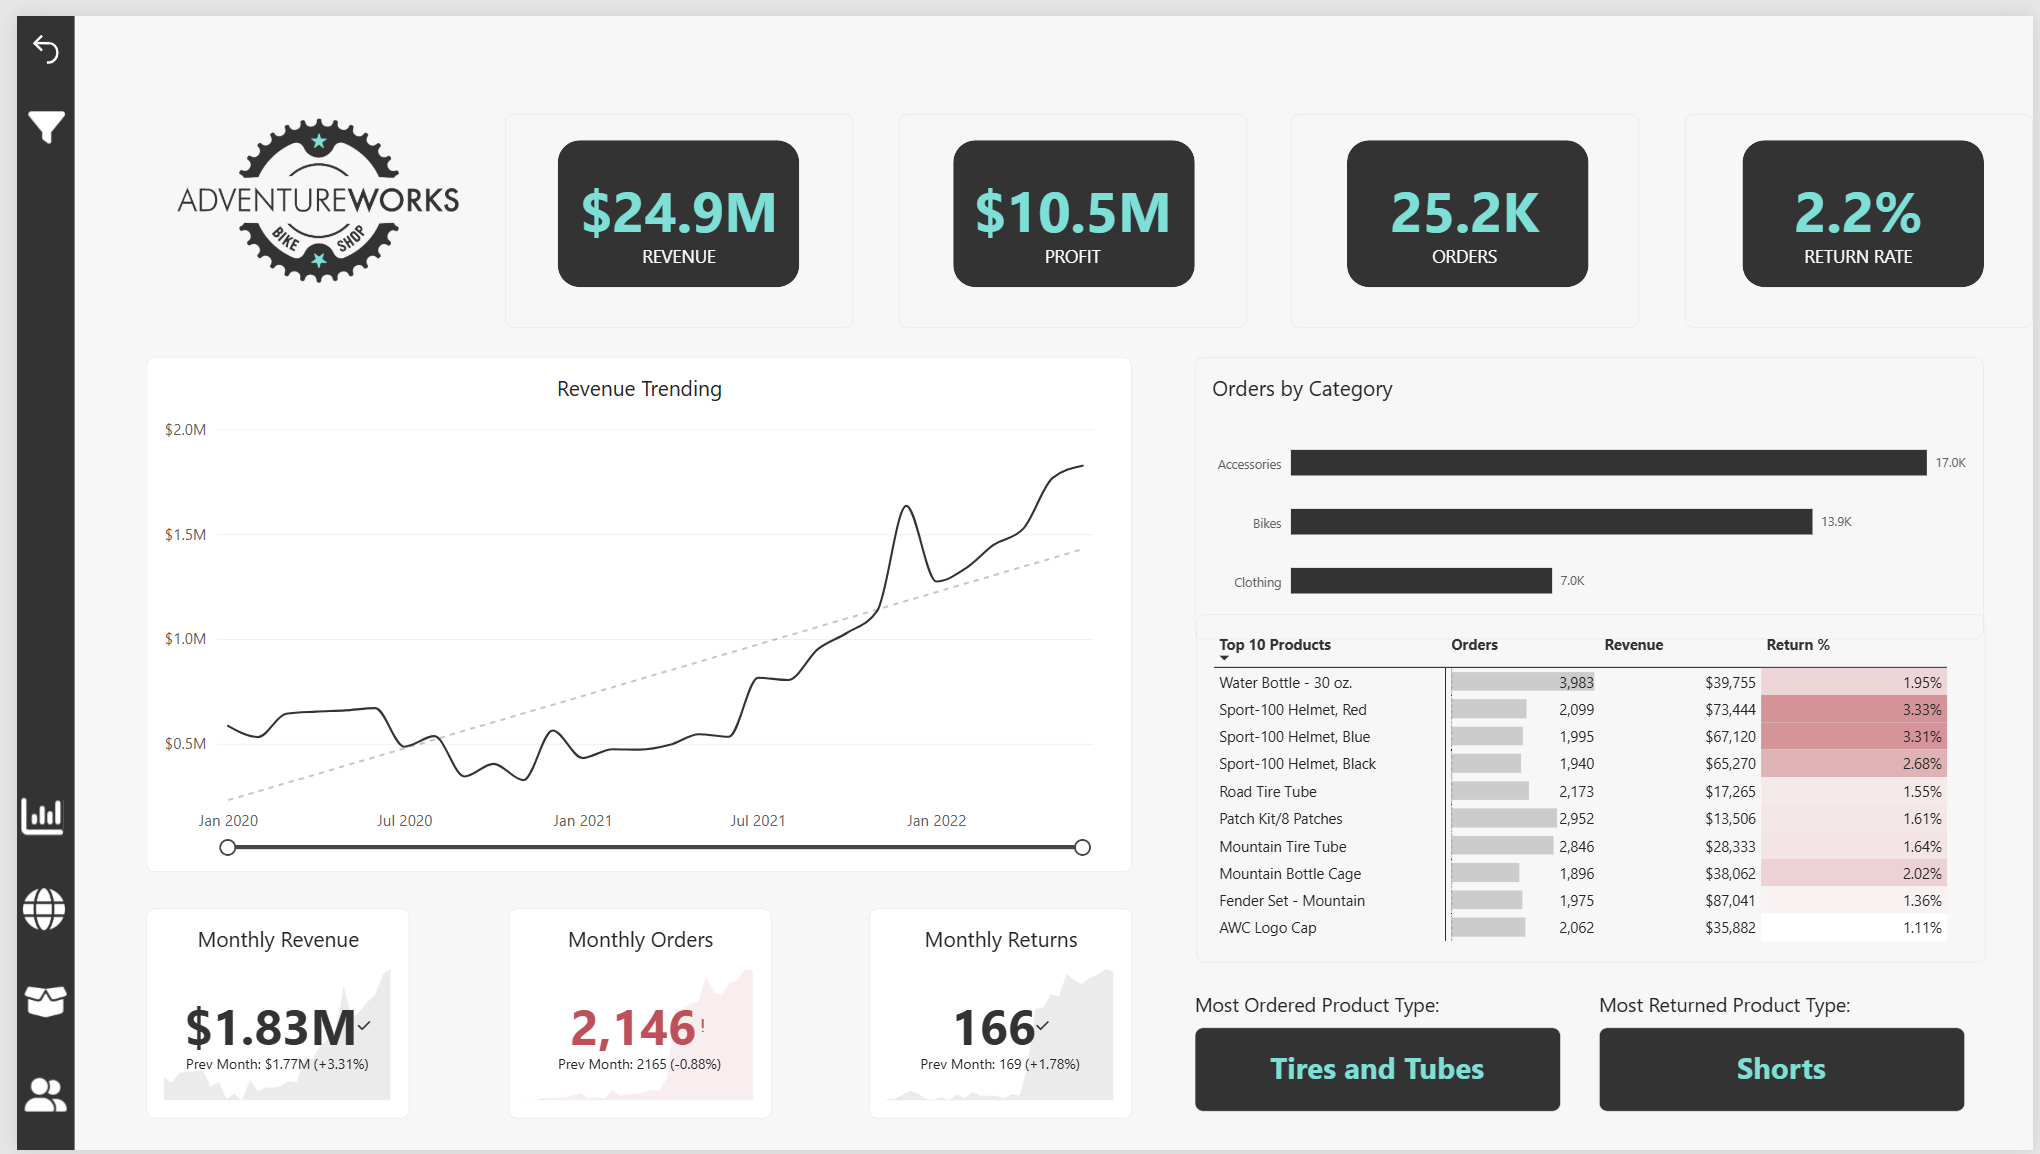

What the dashboard file says about the page in this screenshot:
{"tool":"powerbi","page":{"name":"Exec Dashboard","canvas":[1920,1080],"ordinal":0},"visuals":[{"type":"image","title":"AW Logo","box":[123.3,25,328.3,301.7],"z":0},{"type":"card","fields":{"Values":["Measure Table.Return Rate"]},"box":[1588.3,93.3,331.7,203.3],"z":0,"group":"g2"},{"type":"group","id":"g1","title":"KPI Background","box":[515,117.6,1357.9,140],"z":0,"group":"g3"},{"type":"shape","box":[515,117.6,230,140],"z":0,"group":"g1"},{"type":"actionButton","box":[0,718.3,73.3,88.3],"z":0,"group":"g4"},{"type":"shape","title":"Left Nav Background","box":[0,0,55,1080],"z":1000},{"type":"group","id":"g2","title":"KPI Values","box":[465.4,93.3,1454.6,203.3],"z":1000,"group":"g3"},{"type":"card","fields":{"Values":["Measure Table.Total Orders"]},"box":[1214,93.3,331.7,203.3],"z":1000,"group":"g2"},{"type":"shape","box":[1266.9,117.6,230,140],"z":1000,"group":"g1"},{"type":"actionButton","box":[3.3,895,73.3,88.3],"z":1000,"group":"g4"},{"type":"group","id":"g3","title":"KPIs","box":[465.4,93.3,1454.6,203.3],"z":2000},{"type":"card","fields":{"Values":["Measure Table.Total Profit"]},"box":[839.7,93.3,331.7,203.3],"z":2000,"group":"g2"},{"type":"shape","box":[1642.9,117.6,230,140],"z":2000,"group":"g1"},{"type":"actionButton","box":[1.7,806.6,73.3,88.3],"z":2000,"group":"g4"},{"type":"card","fields":{"Values":["Measure Table.Total Revenue"]},"box":[465.4,93.3,331.7,203.3],"z":3000,"group":"g2"},{"type":"shape","box":[891,117.6,230,140],"z":3000,"group":"g1"},{"type":"lineChart","title":"Revenue Trending","fields":{"Category":["Calendar Lookup.Year","Calendar Lookup.Start of Quarter","Calendar Lookup.Start of Month"],"Y":["Measure Table.Total Revenue"]},"box":[123.7,325.6,938,490.2],"z":3000},{"type":"actionButton","box":[3.3,983.3,73.3,88.3],"z":3000,"group":"g4"},{"type":"kpi","title":"Monthly Revenue","fields":{"Goal":["Measure Table.Previous Month Revenue"],"Indicator":["Measure Table.Total Revenue"],"TrendLine":["Calendar Lookup.Start of Month"]},"box":[123.3,850.2,250,200],"z":4000},{"type":"kpi","title":"Monthly Returns","fields":{"Goal":["Measure Table.Previous Month Returns"],"Indicator":["Measure Table.Total Returns"],"TrendLine":["Calendar Lookup.Start of Month"]},"box":[812,850.2,250,200],"z":5000},{"type":"kpi","title":"Monthly Orders","fields":{"Goal":["Measure Table.Previous Month Orders"],"Indicator":["Measure Table.Total Orders"],"TrendLine":["Calendar Lookup.Start of Month"]},"box":[467.6,850.2,250,200],"z":6000},{"type":"clusteredBarChart","title":"Orders by Category","fields":{"Category":["Product Categories Lookup.CategoryName"],"Y":["Measure Table.Total Orders"]},"box":[1121.7,325,751.7,268.3],"z":7000},{"type":"pivotTable","fields":{"Rows":["Product Lookup.ProductName"],"Values":["Measure Table.Total Orders","Measure Table.Total Revenue","Measure Table.Return Rate"]},"box":[1123.3,570,751.7,331.7],"z":8000},{"type":"card","fields":{"Values":["Min(Product Subcategories Lookup.SubcategoryName)"]},"box":[1121.7,963.3,348.3,80],"z":9000},{"type":"textbox","box":[1121.7,928.3,241.7,43.3],"z":10000},{"type":"card","fields":{"Values":["Min(Product Subcategories Lookup.SubcategoryName)"]},"box":[1506,963.8,348.3,80],"z":11000},{"type":"textbox","box":[1506.7,928.3,248.3,43.3],"z":12000},{"type":"actionButton","box":[0,0,55,63.3],"z":13000},{"type":"group","id":"g4","title":"Navigation Buttons","box":[0,718.3,76.7,353.3],"z":14000},{"type":"actionButton","box":[1.7,78.3,53.3,55],"z":15000}]}

Visuals, with their boxes on the page's 1920x1080 design canvas (x1, y1, x2, y2). These are canvas units, not pixel positions in the 2040x1154 screenshot, which may show the page scaled, cropped or inside an application window:
"AW Logo" image: l=123, t=25, r=452, b=327
card - Measure Table.Return Rate: l=1588, t=93, r=1920, b=297
"KPI Background" group: l=515, t=118, r=1873, b=258
shape: l=515, t=118, r=745, b=258
actionButton: l=0, t=718, r=73, b=807
"Left Nav Background" shape: l=0, t=0, r=55, b=1080
"KPI Values" group: l=465, t=93, r=1920, b=297
card - Measure Table.Total Orders: l=1214, t=93, r=1546, b=297
shape: l=1267, t=118, r=1497, b=258
actionButton: l=3, t=895, r=77, b=983
"KPIs" group: l=465, t=93, r=1920, b=297
card - Measure Table.Total Profit: l=840, t=93, r=1171, b=297
shape: l=1643, t=118, r=1873, b=258
actionButton: l=2, t=807, r=75, b=895
card - Measure Table.Total Revenue: l=465, t=93, r=797, b=297
shape: l=891, t=118, r=1121, b=258
"Revenue Trending" lineChart: l=124, t=326, r=1062, b=816
actionButton: l=3, t=983, r=77, b=1072
"Monthly Revenue" kpi: l=123, t=850, r=373, b=1050
"Monthly Returns" kpi: l=812, t=850, r=1062, b=1050
"Monthly Orders" kpi: l=468, t=850, r=718, b=1050
"Orders by Category" clusteredBarChart: l=1122, t=325, r=1873, b=593
pivotTable - Product Lookup.ProductName x Measure Table.Total Orders: l=1123, t=570, r=1875, b=902
card - Min(Product Subcategories Lookup.SubcategoryName): l=1122, t=963, r=1470, b=1043
textbox: l=1122, t=928, r=1363, b=972
card - Min(Product Subcategories Lookup.SubcategoryName): l=1506, t=964, r=1854, b=1044
textbox: l=1507, t=928, r=1755, b=972
actionButton: l=0, t=0, r=55, b=63
"Navigation Buttons" group: l=0, t=718, r=77, b=1072
actionButton: l=2, t=78, r=55, b=133
